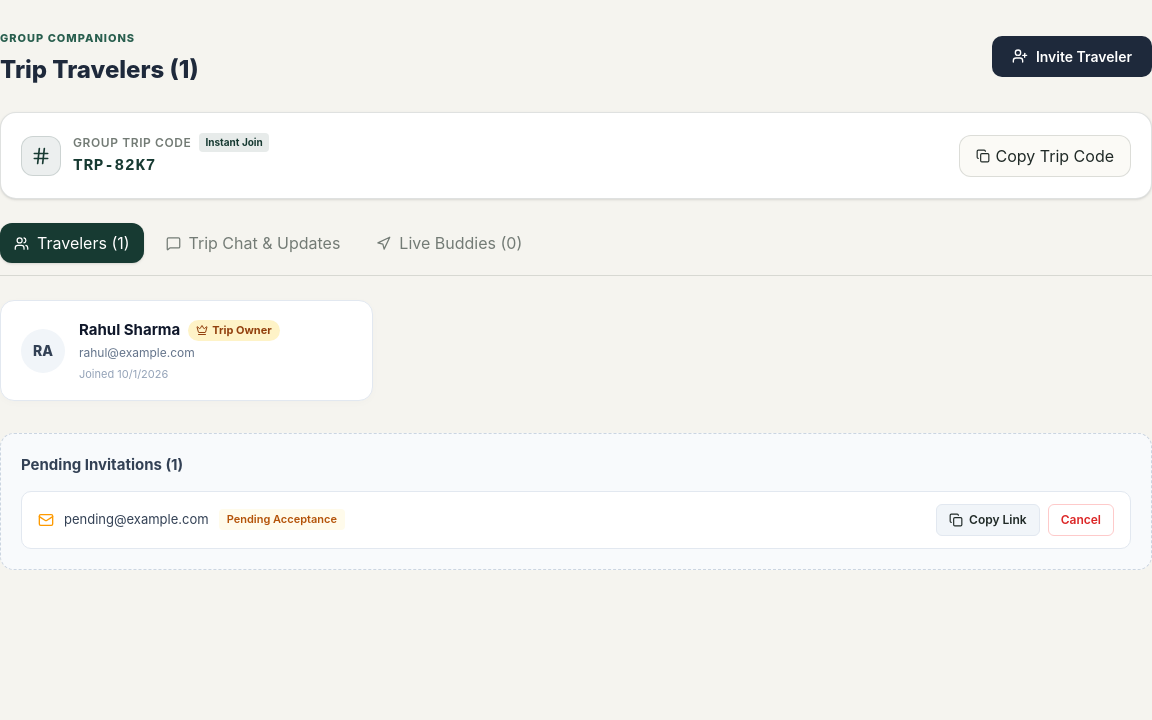
Scenario: GroupWorkspace › opens invite modal and generates an invitation token link
The image size is (1152, 720).
Click the button "Invite Traveler" at (1072, 56), box [992, 36, 1151, 76]
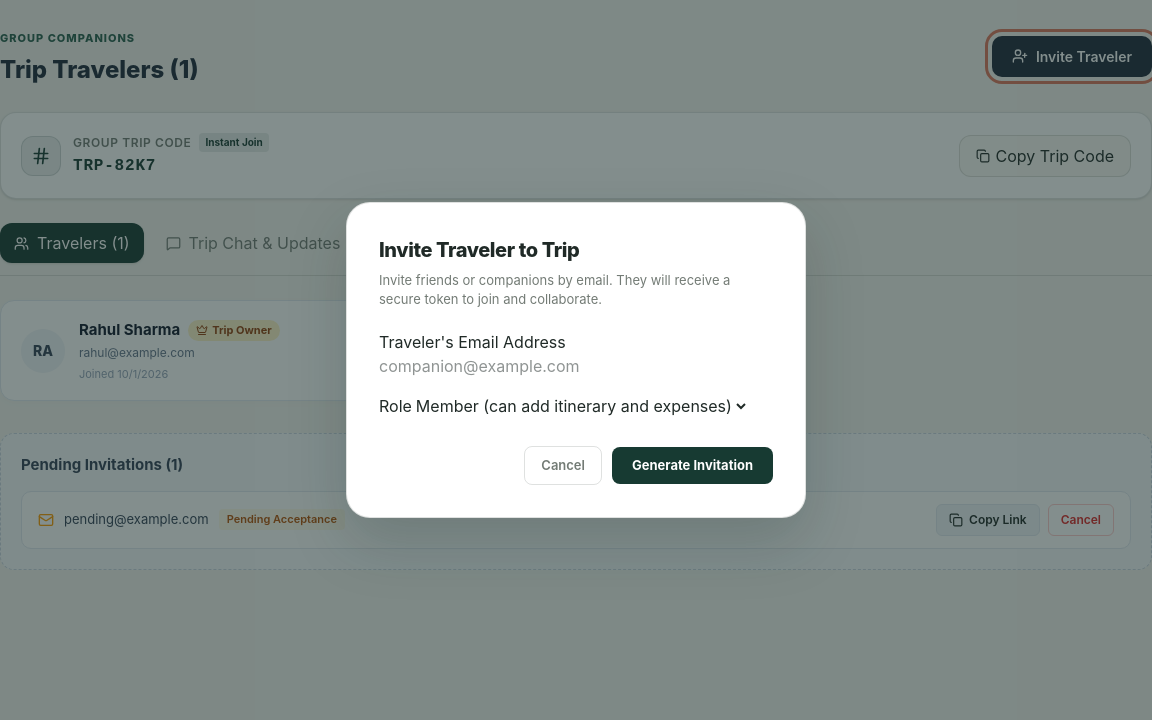
Expected: the heading "Invite Traveler to Trip" is shown, [379, 238, 579, 262]
Type "friend@example.com" into the field labelled "Traveler's Email Address" at (503, 366), box [379, 354, 627, 378]
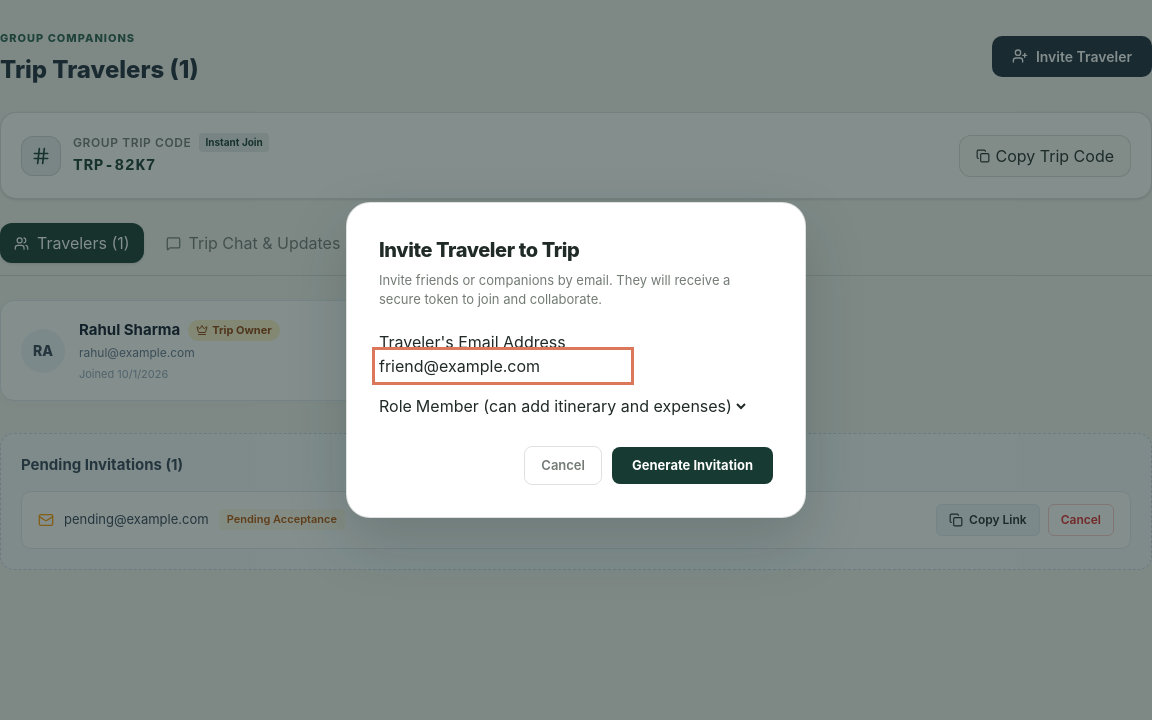
Click the button "Generate Invitation" at (692, 466), box [612, 447, 773, 484]
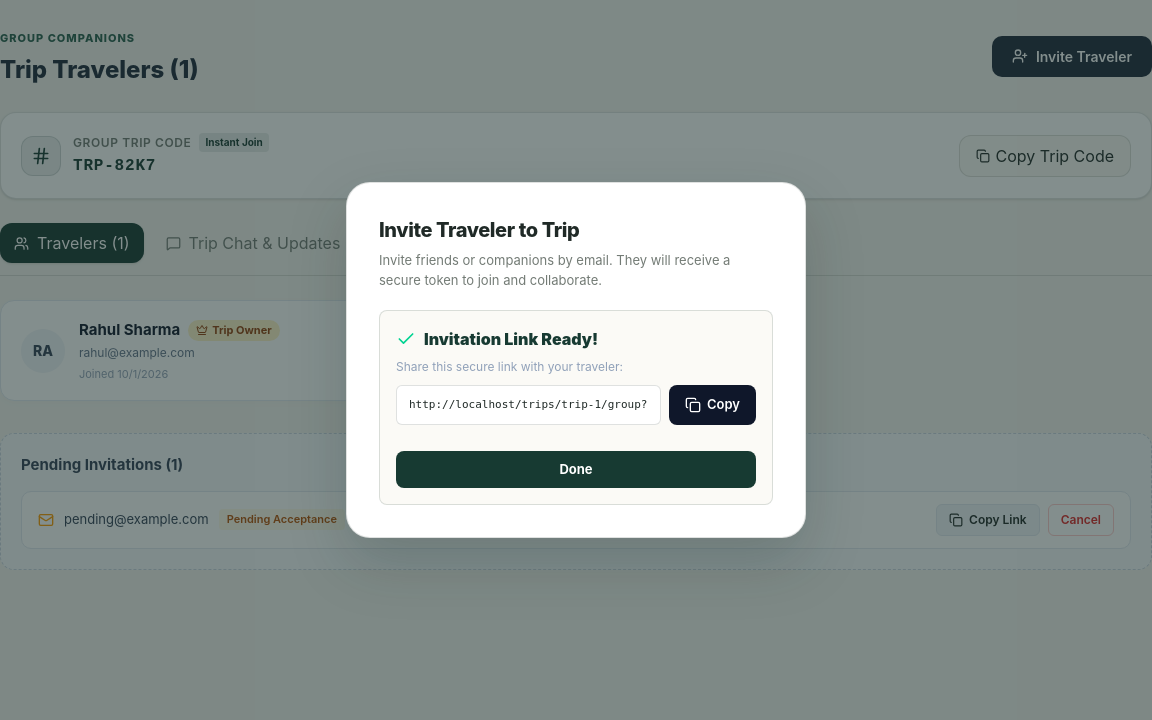
Expected: the text "Invitation Link Ready!" is shown, [424, 327, 598, 351]
Expected: the button "Copy" is shown, [669, 385, 756, 424]
